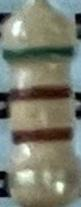Brown: (10, 82, 73, 103), (13, 124, 74, 143)
Green: (3, 44, 74, 67)
Side-Silver: (12, 163, 79, 190)
